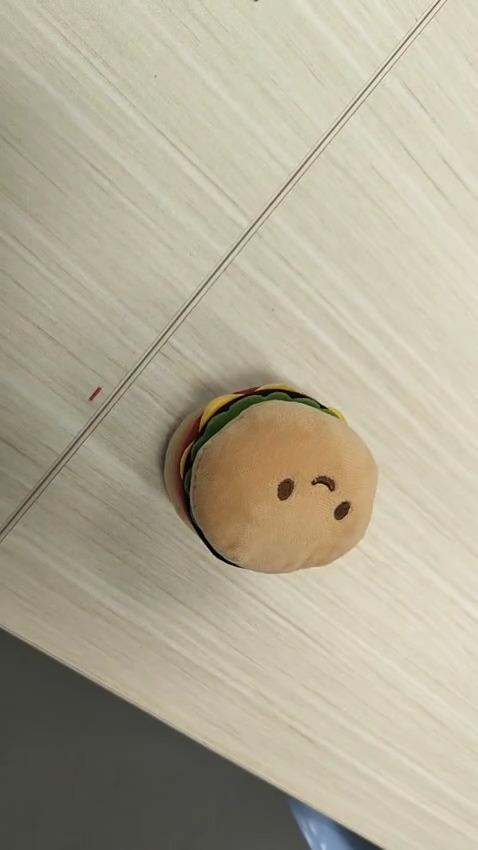hamburger: (161, 381, 378, 575)
